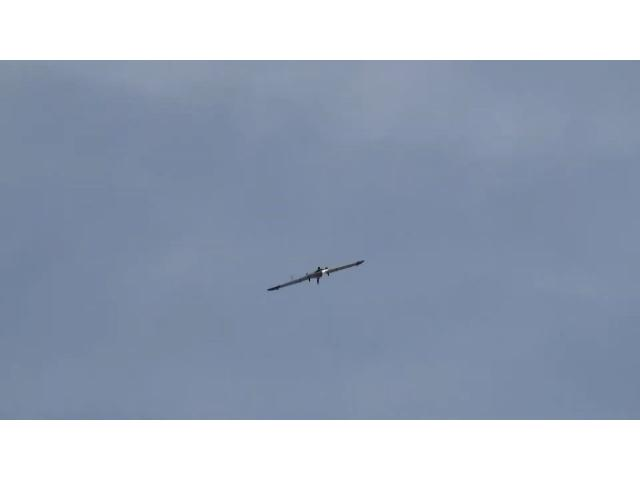Anti-Drone: (268, 262, 364, 290)
